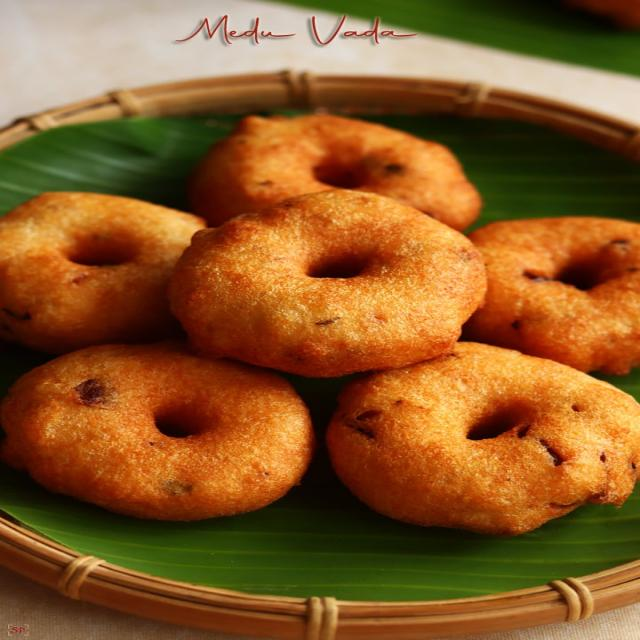VADA: (0, 105, 639, 535)
